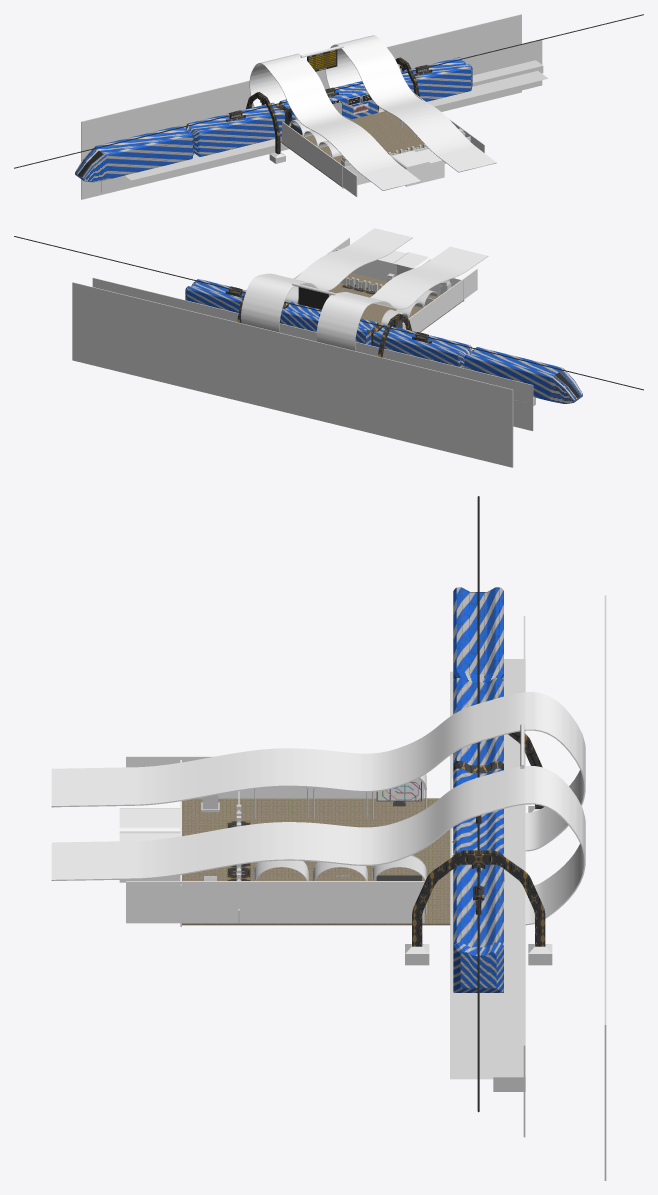
The model's file is TrainStationBlockOut5.fbx.
The picture shows the model from 3 angles, top to bottom: view 1: azimuth 30°, elevation 25°; view 2: azimuth 150°, elevation 25°; view 3: azimuth 270°, elevation 25°; orthographic projection. The views are drawn at different scales.
Visible parts, largest first — view 1: Cube.069, Cube.003, Cube.005, Cube.046, Cube.047, Cube.053, Plane, Cube.095, Cube, Cube.055, Cube.059, Cube.034 (+6 smaller); view 2: Cube.069, Cube.003, Cube.005, Cube.047, Cube.046, Cube.053, Cube.055, Cube.034, Cube.095, Cube, Cylinder.003, Cube.004 (+3 smaller); view 3: Cube.005, Cube.003, Cube.054, Cube, Cube.001, Cube.095, Plane, Cube.046, Cube.053, Plane.008, Cube.055, Cube.059 (+5 smaller).
Boxes of the visible parts, x1,y1,x2,y2 form: Cube.069: [81, 14, 521, 199]; Cube.003: [249, 53, 421, 190]; Cube.005: [325, 35, 496, 172]; Cube.046: [75, 125, 193, 182]; Cube.047: [101, 40, 542, 192]; Cube.053: [185, 102, 286, 156]; Plane: [125, 71, 547, 180]; Cube.095: [384, 57, 472, 110]; Cube: [280, 111, 423, 186]; Cube.055: [282, 121, 357, 196]; Cube.059: [392, 149, 444, 186]; Cube.034: [278, 81, 378, 129]; Cube.069: [72, 282, 513, 467]; Cube.003: [316, 246, 488, 351]; Cube.005: [241, 228, 412, 332]; Cube.047: [92, 277, 533, 430]; Cube.046: [464, 347, 582, 403]; Cube.053: [371, 324, 472, 367]; Cube.055: [402, 269, 477, 332]; Cube.034: [279, 301, 379, 345]; Cube.095: [185, 279, 286, 312]; Cube: [286, 273, 463, 332]; Cylinder.003: [14, 236, 643, 390]; Cube.004: [336, 249, 464, 301]; Cube.005: [51, 766, 585, 925]; Cube.003: [51, 692, 585, 851]; Cube.054: [126, 881, 424, 923]; Cube: [182, 798, 450, 925]; Cube.001: [493, 659, 525, 1091]; Cube.095: [453, 864, 503, 992]; Plane: [450, 671, 493, 1079]; Cube.046: [453, 587, 503, 682]; Cube.053: [453, 678, 503, 772]; Plane.008: [412, 851, 545, 946]; Cube.055: [126, 756, 424, 798]; Cube.059: [119, 808, 180, 882].
Size of the model in its own units: 8484 by 1426 by 3236.
